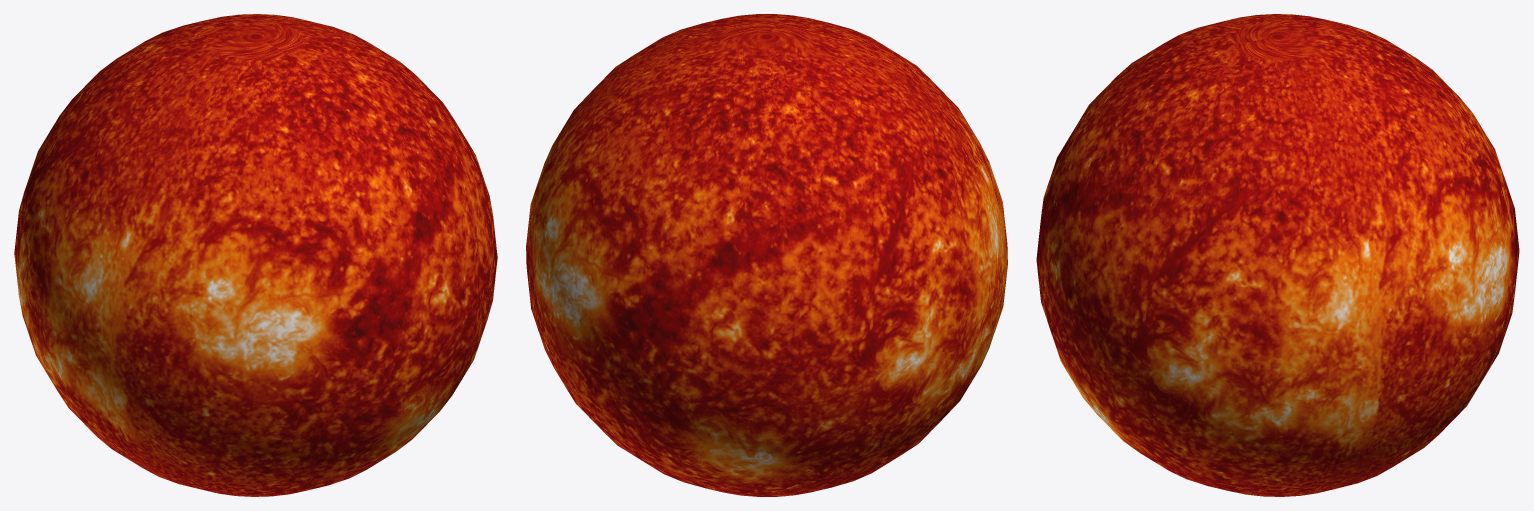
File: sun.gltf
3 views of the same model, side by side, from view 1: azimuth 30°, elevation 25°; view 2: azimuth 150°, elevation 25°; view 3: azimuth 270°, elevation 25° (orthographic).
Parts seen in each view (by area): view 1: Sun.001; view 2: Sun.001; view 3: Sun.001.
Boxes of the visible parts, <box> form: Sun.001: <box>14,14,497,496</box>; Sun.001: <box>526,14,1007,496</box>; Sun.001: <box>1036,14,1519,496</box>.
Bounding box in the file's own units: 40.85 × 40.89 × 40.85.
1 material, 1 textured.
